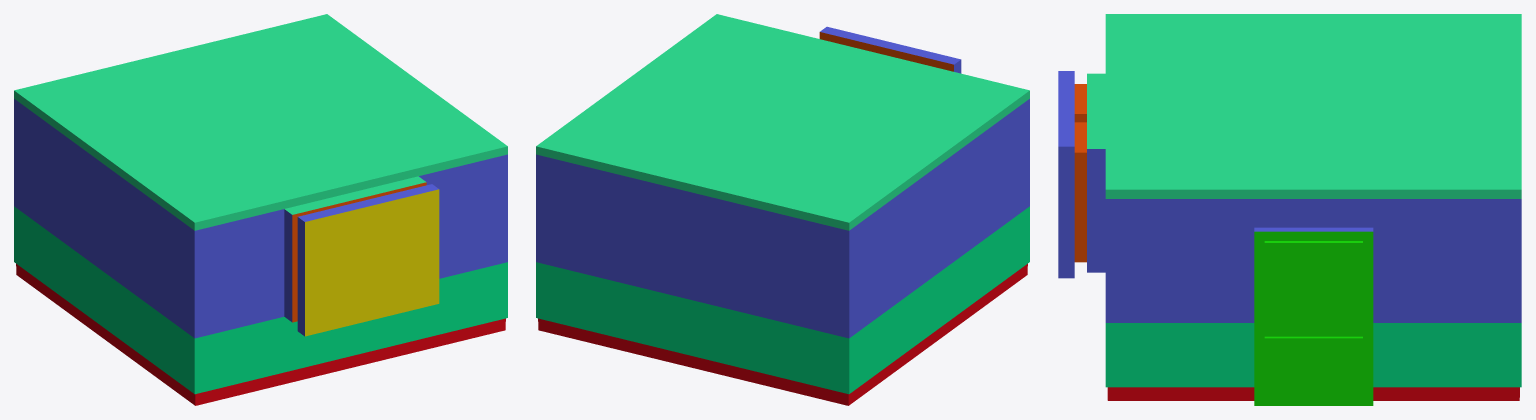
Rendered from Office.fbx.
3 renders of one model, left to right at view 1: azimuth 30°, elevation 25°; view 2: azimuth 150°, elevation 25°; view 3: azimuth 270°, elevation 25°, orthographic. The views are drawn at different scales.
Visible parts, largest first — view 1: Office; view 2: Office; view 3: Office.
Part boxes in pixels (x1,y1,x2,y2): Office: [14, 14, 507, 405]; Office: [536, 14, 1029, 405]; Office: [1058, 14, 1521, 405].
Size of the model in its own units: 209 by 114 by 225.
